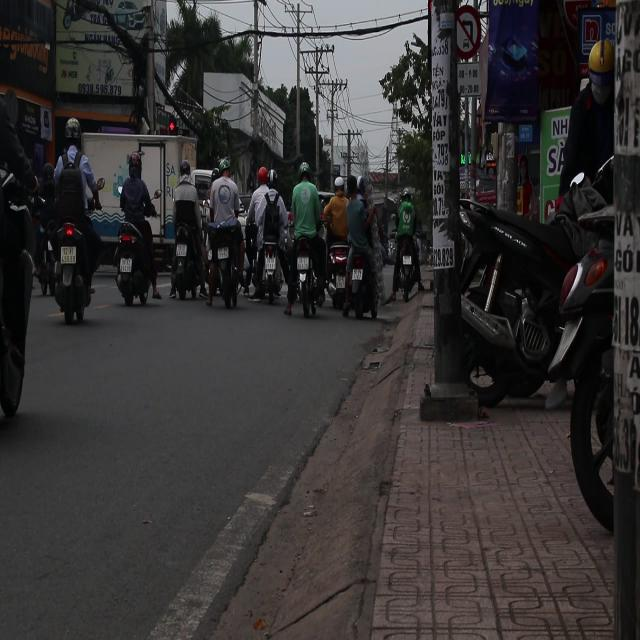motorbike: (41, 145, 104, 321), (167, 165, 207, 301), (113, 217, 156, 305), (348, 230, 382, 319), (210, 225, 244, 308), (259, 233, 289, 304), (395, 232, 421, 309), (295, 239, 319, 319)
